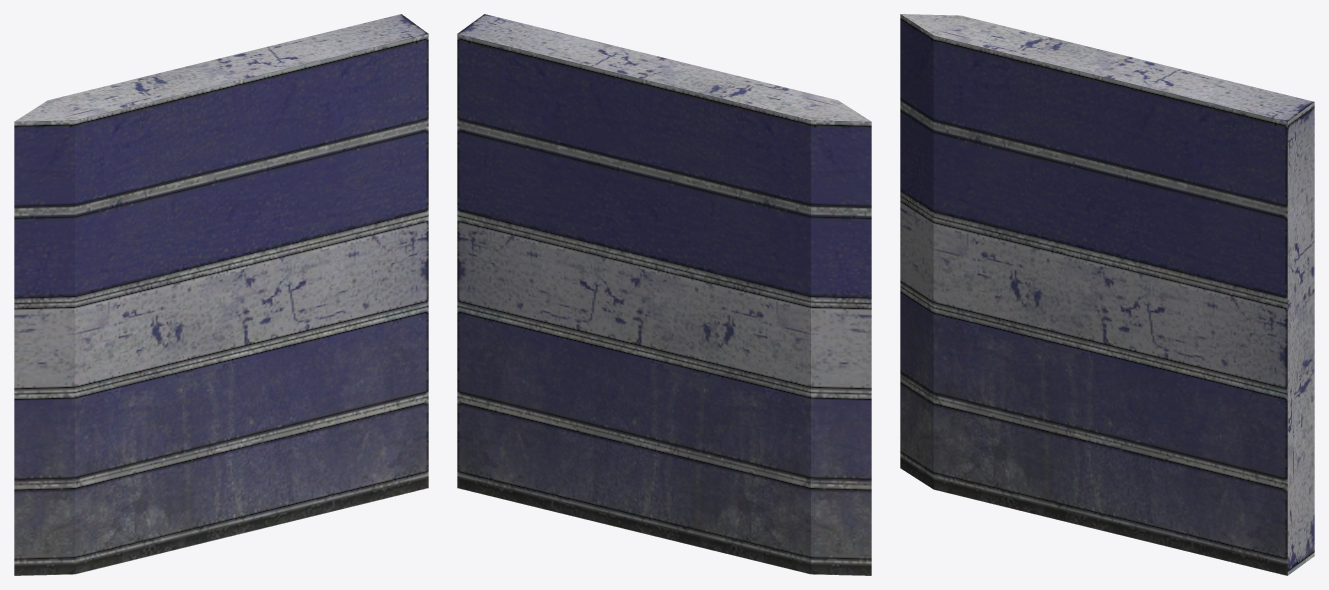
The model's file is wall05.obj.
3 views of the same model, side by side, from view 1: azimuth 30°, elevation 25°; view 2: azimuth 150°, elevation 25°; view 3: azimuth 330°, elevation 25° (orthographic).
Visible parts, largest first — view 1: Cube.008; view 2: Cube.008; view 3: Cube.008.
Boxes of the visible parts, x1,y1,x2,y2 form: Cube.008: (14,14,428,575); Cube.008: (457,14,871,575); Cube.008: (900,14,1314,575).
Bounding box in the file's own units: 2.66 × 2.88 × 0.3125.
